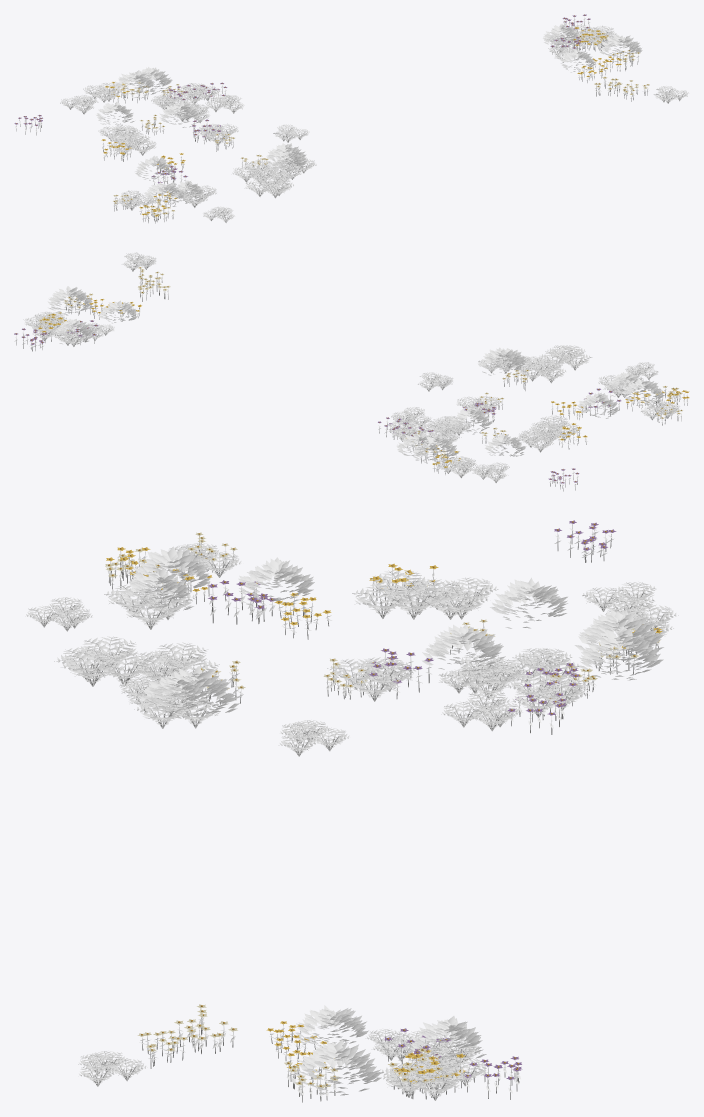
The model's file is SM_NW_Nature_0_2_Flora.fbx.
The picture shows the model from 3 angles, top to bottom: view 1: azimuth 30°, elevation 25°; view 2: azimuth 150°, elevation 25°; view 3: azimuth 270°, elevation 25°; orthographic projection. The views are drawn at different scales.
Visible parts, largest first — view 1: SM_NW_Nature_0_2_Flora; view 2: SM_NW_Nature_0_2_Flora; view 3: SM_NW_Nature_0_2_Flora.
Part boxes in pixels (left/top/right/bottom): SM_NW_Nature_0_2_Flora: left=14, top=14, right=688, bottom=223; SM_NW_Nature_0_2_Flora: left=14, top=252, right=689, bottom=491; SM_NW_Nature_0_2_Flora: left=26, top=520, right=678, bottom=1102.
Size of the model in its own units: 2808 by 1418 by 180.
